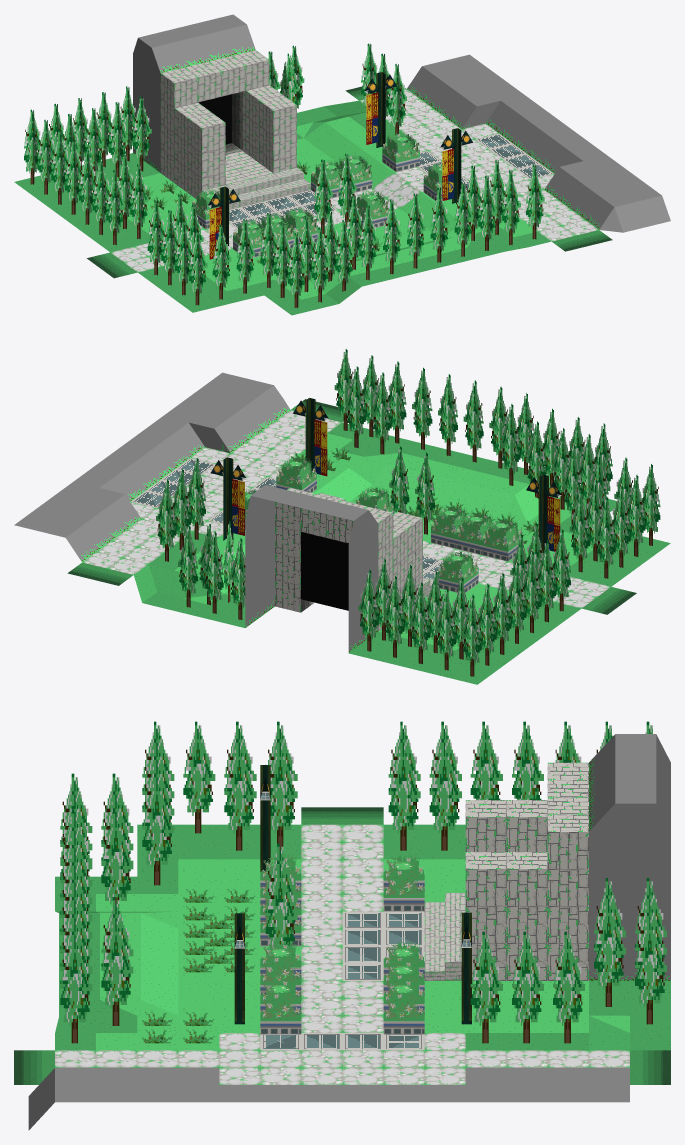
File: BlockTile_1786792549.glb
The picture shows the model from 3 angles, top to bottom: view 1: azimuth 30°, elevation 25°; view 2: azimuth 150°, elevation 25°; view 3: azimuth 270°, elevation 25°; orthographic projection. The views are drawn at different scales.
Visible parts, largest first — view 1: loose, group_8E31A01D, group_DD928316, group_F9FB3E41, group_7C1BA9D1, group_793D8A53, group_AC7FAD48, group_E271CA6E, group_B5AE89A7, group_FBC6DB9C, group_CD82515C, group_48A2266D (+54 smaller); view 2: loose, group_8E31A01D, group_E271CA6E, group_B5AE89A7, group_CD82515C, group_DD928316, group_EEB914F3, group_E58E3BFA, group_20BAB1D3, group_FCC95AB9, group_D9868EAF, group_0AD96812 (+52 smaller); view 3: loose, group_F9FB3E41, group_8E31A01D, group_AC7FAD48, group_DD928316, group_7C1BA9D1, group_87E2CFD8, group_EEB914F3, group_FBC6DB9C, group_20BAB1D3, group_097E3D19, group_FFDDD7CE (+38 smaller).
Boxes of the visible parts, bbox=[...] form: loose: bbox=[14, 14, 670, 315]; group_8E31A01D: bbox=[160, 50, 269, 108]; group_DD928316: bbox=[160, 98, 225, 153]; group_F9FB3E41: bbox=[232, 85, 296, 135]; group_7C1BA9D1: bbox=[202, 167, 310, 209]; group_793D8A53: bbox=[160, 123, 225, 178]; group_AC7FAD48: bbox=[232, 106, 296, 160]; group_E271CA6E: bbox=[364, 72, 397, 147]; group_B5AE89A7: bbox=[440, 128, 472, 203]; group_FBC6DB9C: bbox=[382, 132, 419, 171]; group_CD82515C: bbox=[207, 186, 240, 263]; group_48A2266D: bbox=[430, 187, 449, 262]; loose: bbox=[14, 372, 670, 684]; group_8E31A01D: bbox=[275, 487, 393, 550]; group_E271CA6E: bbox=[210, 457, 245, 540]; group_B5AE89A7: bbox=[293, 398, 328, 476]; group_CD82515C: bbox=[526, 474, 561, 552]; group_DD928316: bbox=[378, 511, 422, 577]; group_EEB914F3: bbox=[438, 550, 478, 592]; group_E58E3BFA: bbox=[482, 517, 523, 561]; group_20BAB1D3: bbox=[276, 457, 316, 492]; group_FCC95AB9: bbox=[456, 511, 492, 555]; group_D9868EAF: bbox=[431, 506, 466, 548]; group_0AD96812: bbox=[198, 521, 234, 605]; loose: bbox=[14, 734, 670, 1130]; group_F9FB3E41: bbox=[465, 852, 588, 906]; group_8E31A01D: bbox=[547, 762, 588, 869]; group_AC7FAD48: bbox=[465, 906, 588, 943]; group_DD928316: bbox=[465, 800, 547, 851]; group_7C1BA9D1: bbox=[424, 893, 465, 971]; group_87E2CFD8: bbox=[472, 943, 588, 980]; group_EEB914F3: bbox=[383, 854, 424, 911]; group_FBC6DB9C: bbox=[383, 977, 424, 1034]; group_20BAB1D3: bbox=[260, 977, 301, 1034]; group_097E3D19: bbox=[101, 914, 133, 1025]; group_FFDDD7CE: bbox=[183, 721, 215, 833].
Size of the model in its own units: 19.55 by 5.19 by 16.
18 materials, 18 textured.
